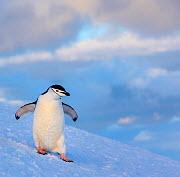chinstrap: (5, 76, 85, 170)
